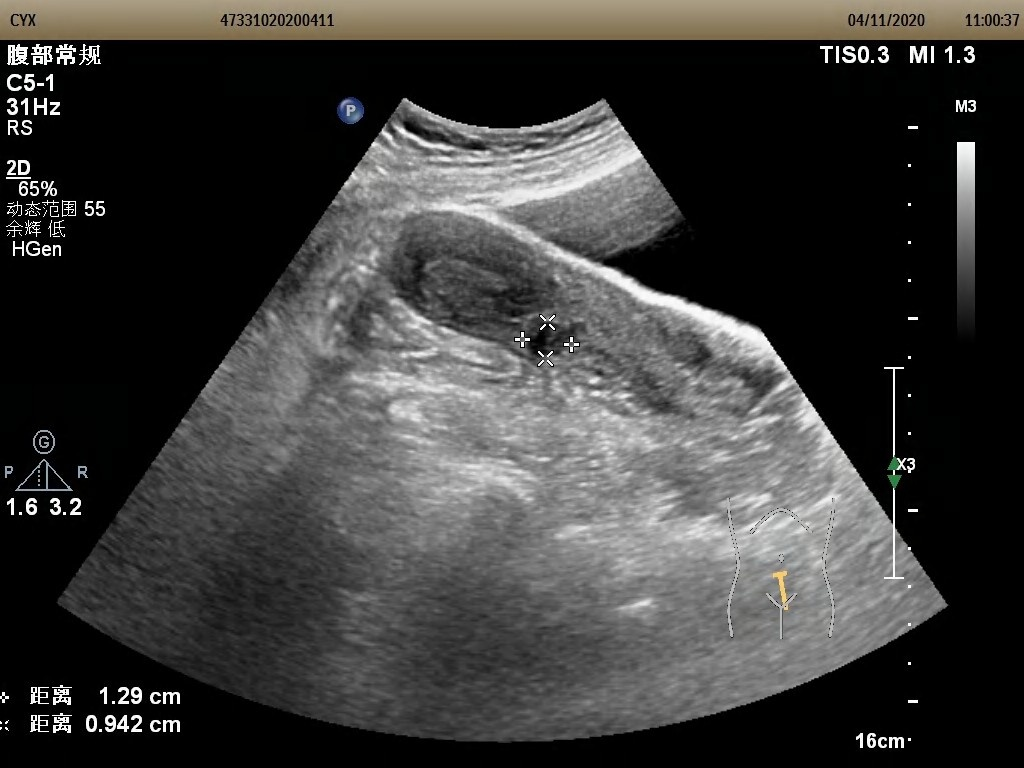肌瘤: (528, 324, 573, 357)
